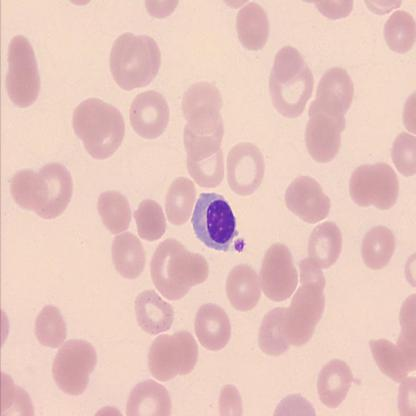NRC: (191, 190, 239, 251)
